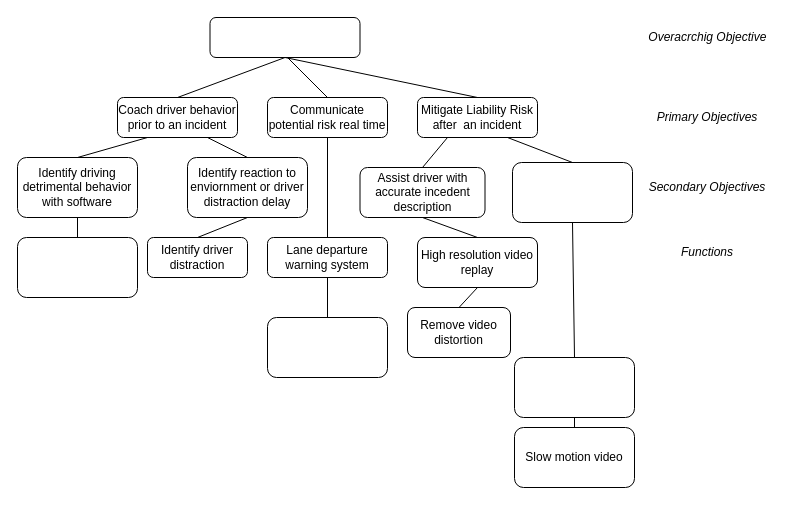
This 802x505 diagram has some shape labels left out. Each missing label, with the centre of its shape:
"Add objective detail that happens in rapid succession" belongs at [572,192].
"Observe truck in operating enviornment" belongs at [284,37].
"Provide high frame relay speed" belongs at [574,387].
"Provide software with easy to recall situations" belongs at [77,267].
"Role Stability Warning Systems" belongs at [327,347].
